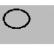no answer: (0, 7, 35, 32)
